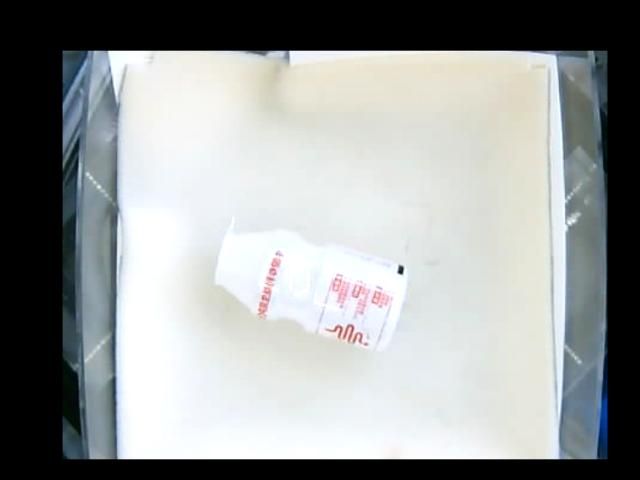Bottle: (210, 226, 409, 352)
